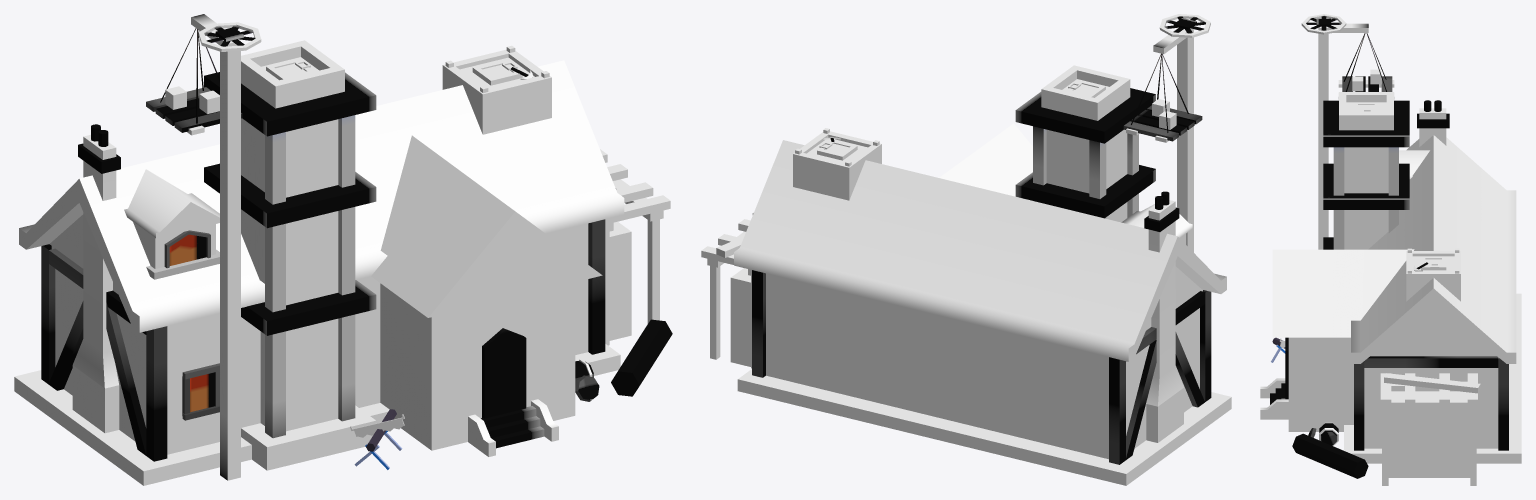
File: TownHallPhase02.fbx
3 renders of one model, left to right at view 1: azimuth 30°, elevation 25°; view 2: azimuth 150°, elevation 25°; view 3: azimuth 270°, elevation 25°, orthographic. The views are drawn at different scales.
Parts seen in each view (by area): view 1: TownHallPhase02; view 2: TownHallPhase02; view 3: TownHallPhase02.
Boxes of the visible parts, x1,y1,x2,y2 form: TownHallPhase02: [14, 14, 672, 485]; TownHallPhase02: [701, 14, 1231, 485]; TownHallPhase02: [1260, 14, 1521, 485].
Bounding box in the file's own units: 7.99 × 6.22 × 4.76.
